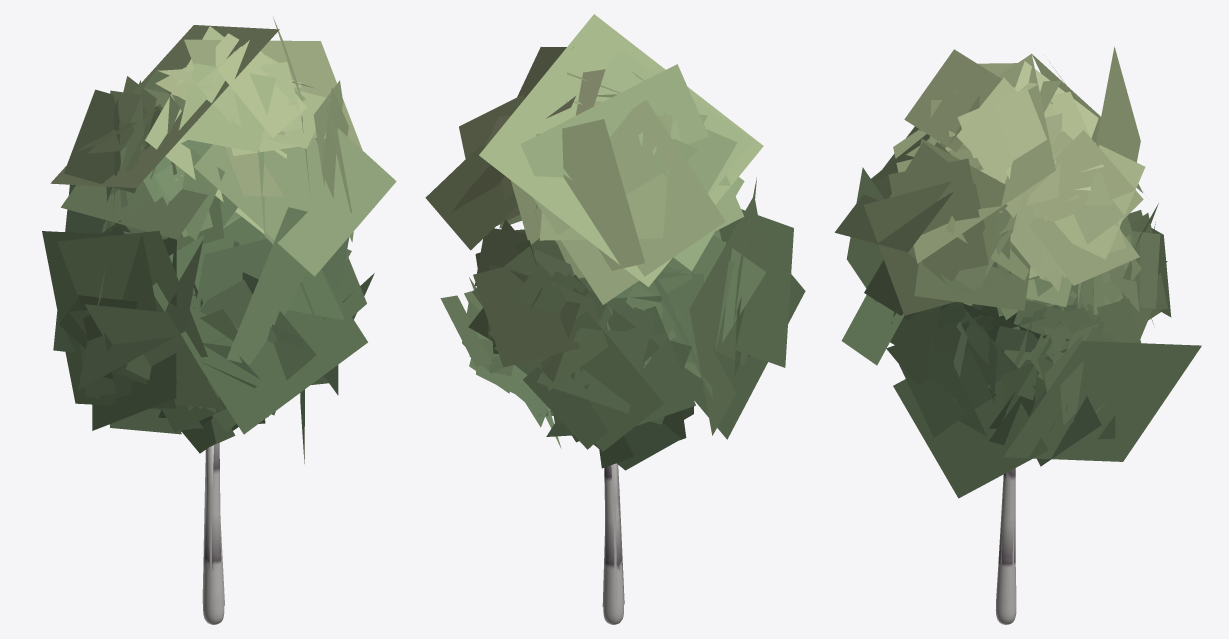
Rendered from silver_birch_v2.glb.
The picture shows the model from 3 angles, left to right: view 1: azimuth 30°, elevation 25°; view 2: azimuth 150°, elevation 25°; view 3: azimuth 270°, elevation 25°; orthographic projection. The views are drawn at different scales.
Parts seen in each view (by area): view 1: far, near; view 2: far, near; view 3: near, far.
Boxes of the visible parts, box(x1,y1,x2,y2) form: far: box(42, 25, 396, 609); near: box(58, 17, 374, 624); far: box(479, 14, 805, 610); near: box(425, 47, 750, 624); near: box(864, 49, 1171, 624); far: box(835, 46, 1201, 608).
Bounding box in the file's own units: 7.47 × 13.6 × 8.02.
